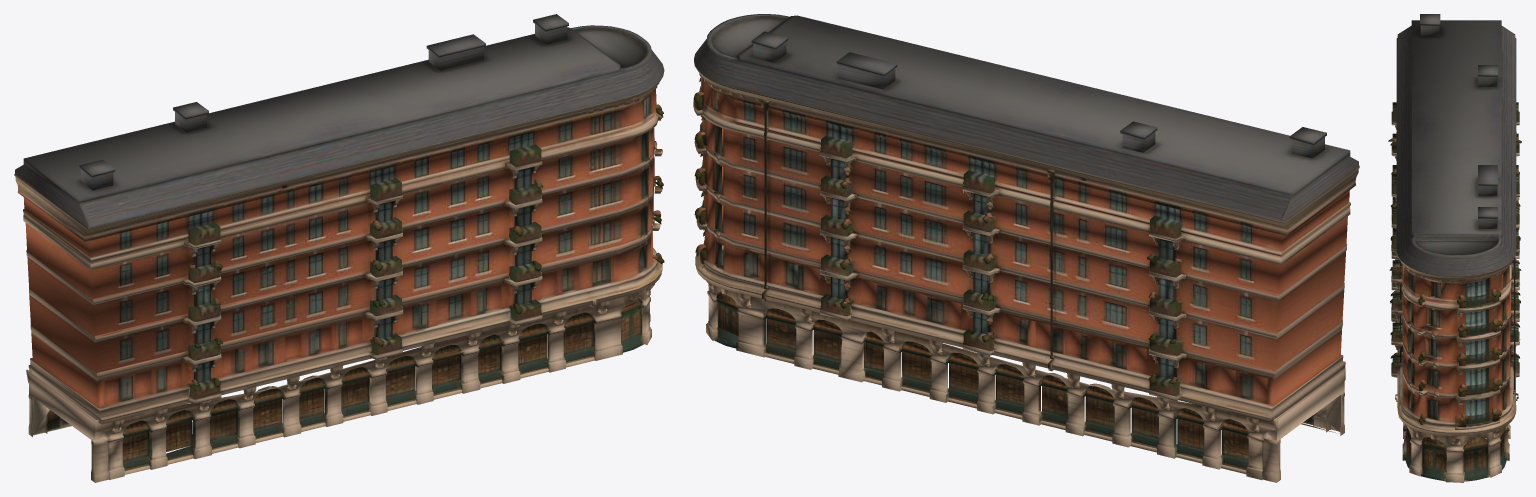
File: wukang-corner-v1.glb
3 views of the same model, side by side, from view 1: azimuth 30°, elevation 25°; view 2: azimuth 150°, elevation 25°; view 3: azimuth 270°, elevation 25° (orthographic). The views are drawn at different scales.
Visible parts, largest first — view 1: wukang-corner-v1-0; view 2: wukang-corner-v1-0; view 3: wukang-corner-v1-0.
Part boxes in pixels (x1=…): wukang-corner-v1-0: x1=14, y1=14, x2=664, y2=482; wukang-corner-v1-0: x1=693, y1=14, x2=1359, y2=482; wukang-corner-v1-0: x1=1388, y1=14, x2=1521, y2=482.
Bounding box in the file's own units: 0.9995 × 0.4751 × 0.2378.
Materials: 1 (1 with a texture image).
